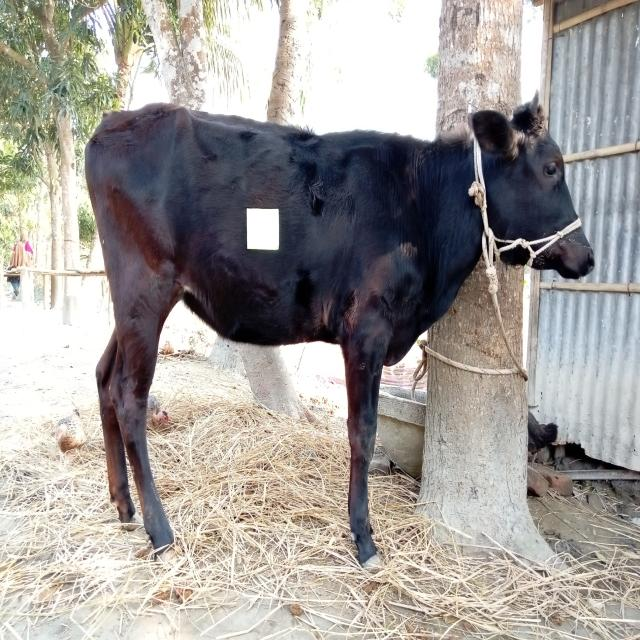badan_sapi: (107, 124, 406, 350)
sapi: (82, 85, 598, 576)
